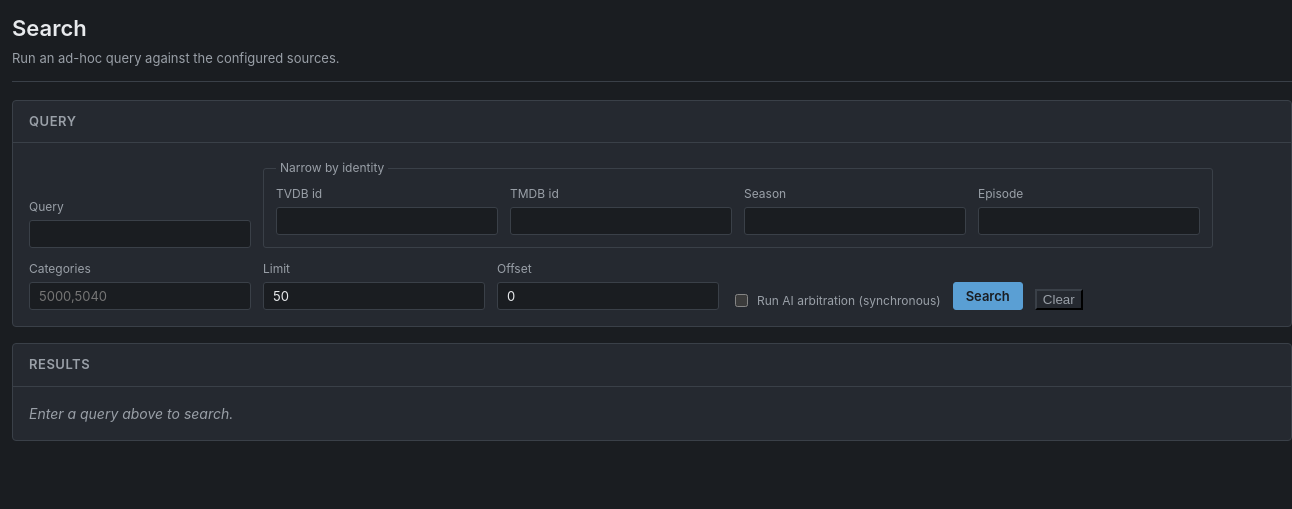
Test: Search › the no-source-answered empty state (arb-cy1y) › names every timed-out source and does not tell the operator to broaden the query
Type "some series" into the field labelled "Query". click: [140, 234]
box: [29,220,251,248]
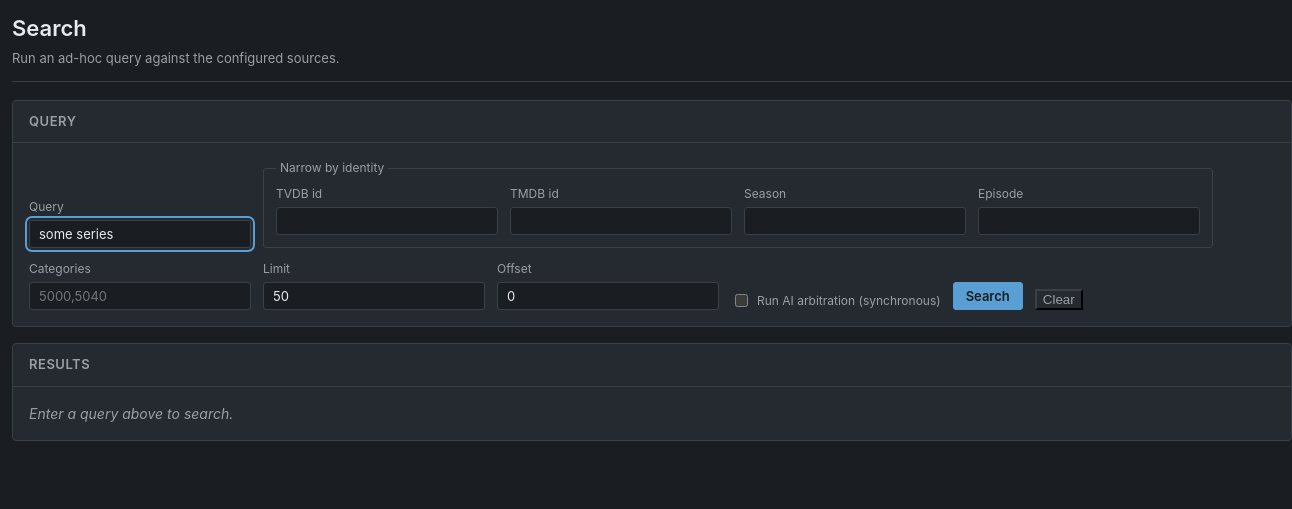
Click the button "Search". click: [988, 296]
box: [953,282,1023,310]
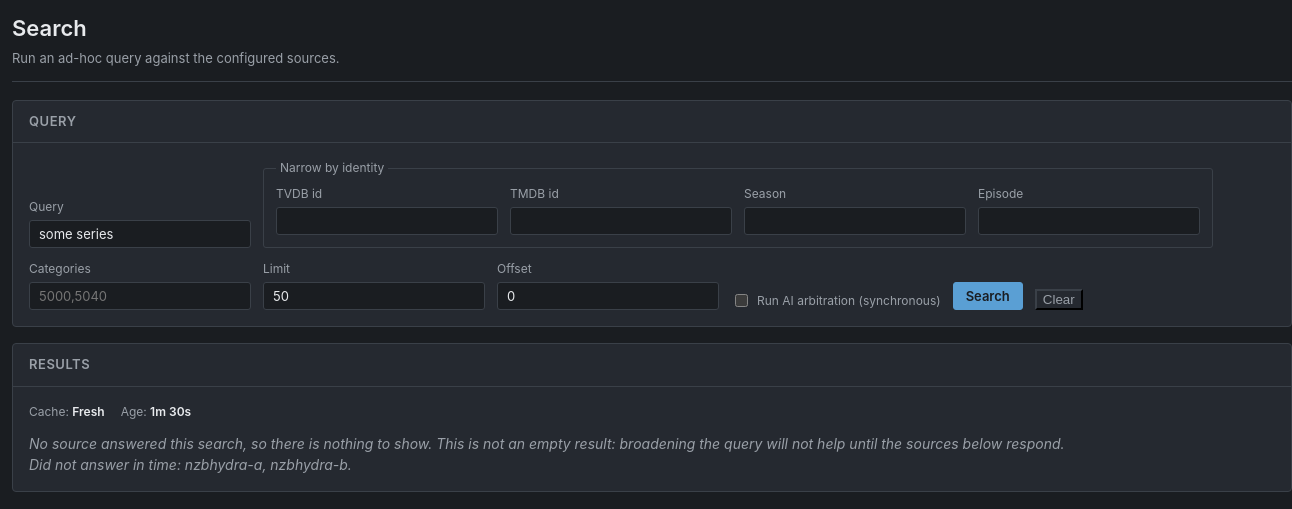
Result: the text "No source answered this search" is shown at [29,434,1064,452]
Result: the text "Did not answer in time: nzbhydra-a, nzbhydra-b." is shown at [29,456,352,472]
